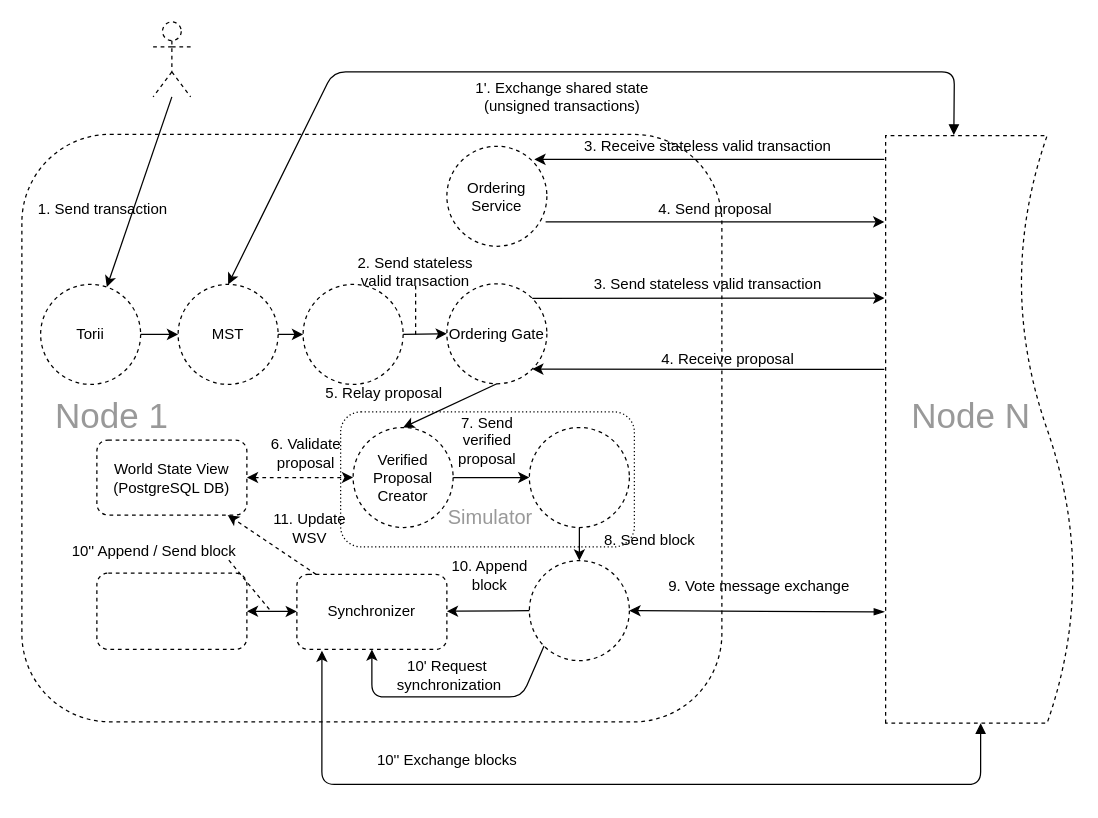
The diagram is 1098 pixels wide and 818 high, and some of its shapes have lost their labels. The centre of each missing label's shape, as x and y in pixels:
Block Consensus (YAC): point (578, 610)
Block Creator: point (578, 477)
Blockstore: point (171, 610)
PCS: point (352, 333)
